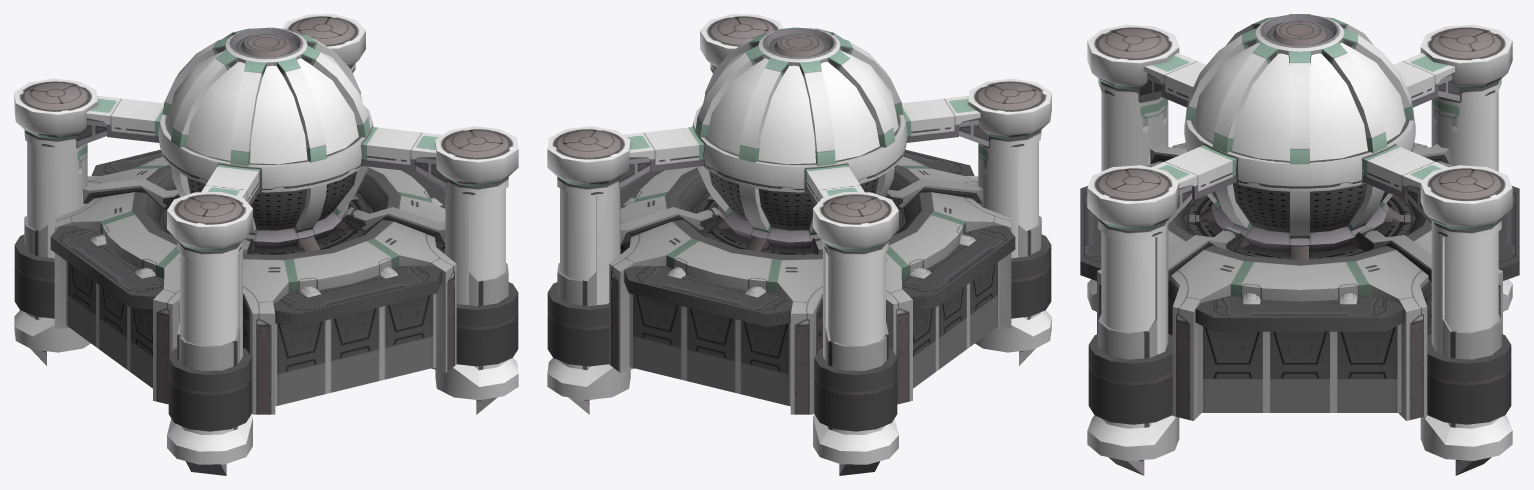
The model's file is lab.glb.
3 views of the same model, side by side, from view 1: azimuth 30°, elevation 25°; view 2: azimuth 150°, elevation 25°; view 3: azimuth 270°, elevation 25° (orthographic). The views are drawn at different scales.
Visible parts, largest first — view 1: science-academy-b, science-academy-a; view 2: science-academy-b, science-academy-a; view 3: science-academy-b, science-academy-a.
Part boxes in pixels (x1=…): science-academy-b: x1=14, y1=14, x2=518, y2=475; science-academy-a: x1=14, y1=149, x2=518, y2=431; science-academy-b: x1=547, y1=14, x2=1051, y2=475; science-academy-a: x1=547, y1=149, x2=1051, y2=431; science-academy-b: x1=1087, y1=14, x2=1512, y2=475; science-academy-a: x1=1080, y1=142, x2=1519, y2=424.
Bounding box in the file's own units: 6.2 × 5.73 × 6.2.
Materials: 3 (3 with a texture image).
